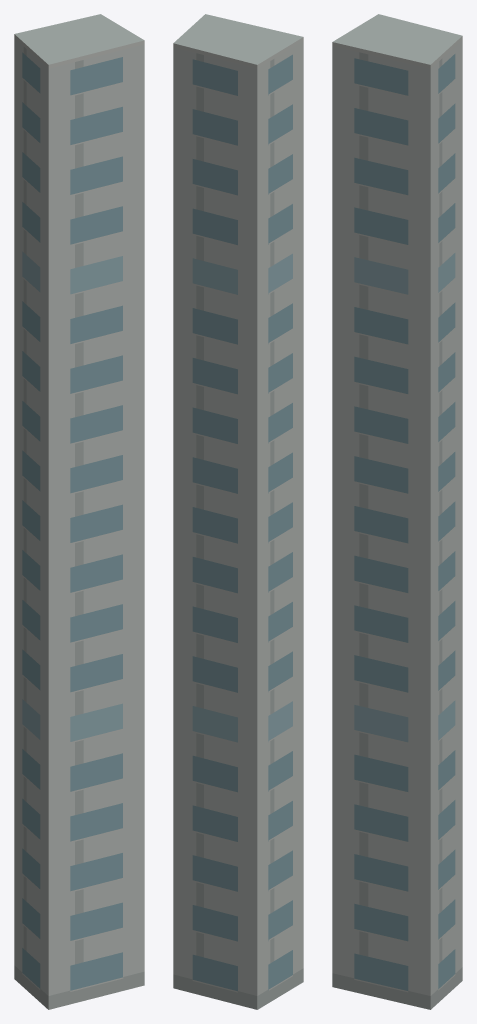
File: survey-upis-32572441.glb
3 views of the same model, side by side, from view 1: azimuth 30°, elevation 25°; view 2: azimuth 150°, elevation 25°; view 3: azimuth 330°, elevation 25° (orthographic).
Parts seen in each view (by area): view 1: survey-upis-32572441.tmp; view 2: survey-upis-32572441.tmp; view 3: survey-upis-32572441.tmp.
Part boxes in pixels (<box>): survey-upis-32572441.tmp: <box>14,14,144,1009</box>; survey-upis-32572441.tmp: <box>173,14,303,1009</box>; survey-upis-32572441.tmp: <box>332,14,462,1009</box>.
Size of the model in its own units: 6.25 by 57.95 by 4.48.
